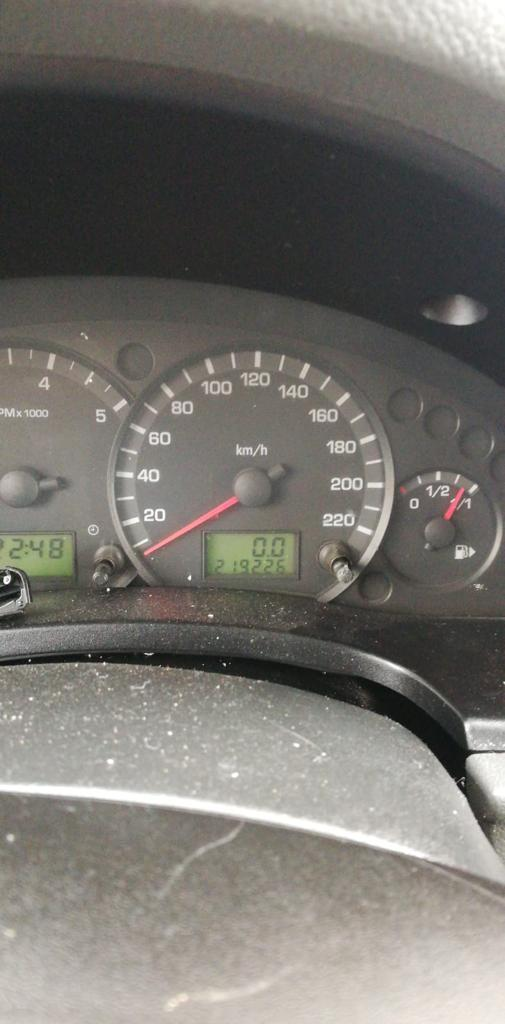,: (266, 552, 270, 557)
0: (271, 535, 284, 556), (252, 536, 265, 556)
1: (231, 559, 237, 573)
2: (251, 558, 261, 575), (263, 558, 273, 574), (214, 559, 224, 574)
6: (275, 558, 286, 574)
9: (240, 558, 248, 573)
odometer: (202, 529, 301, 580)
